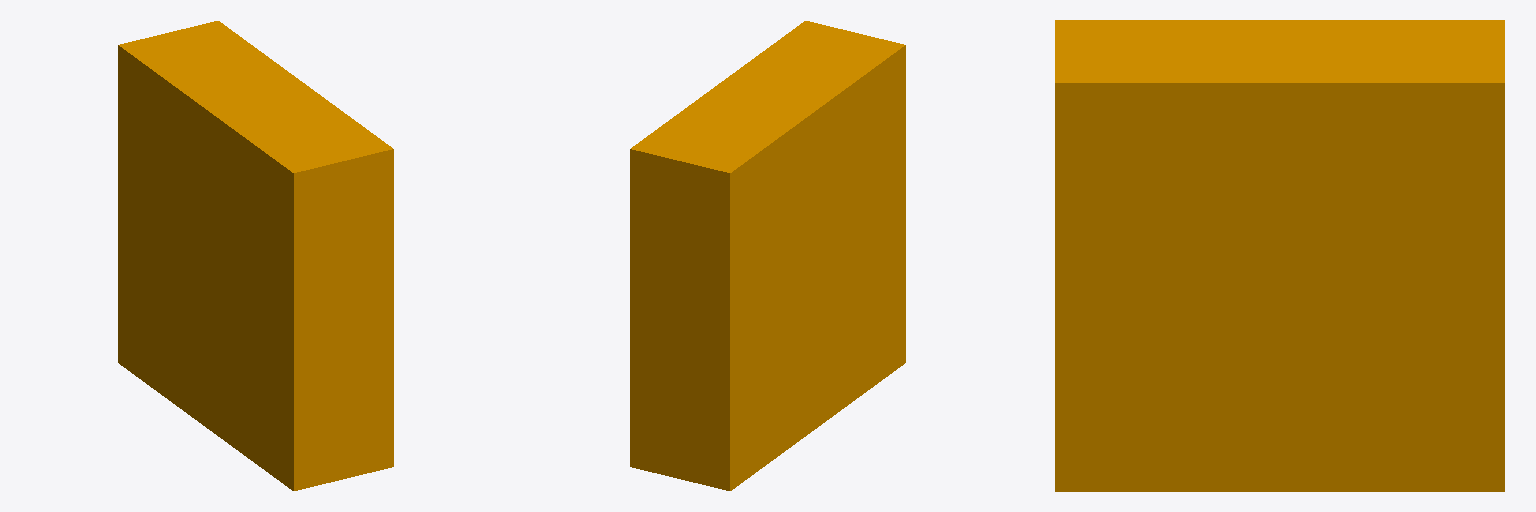
The robot description file, URDF, robot "t":
<?xml version="1.0" ?>
<!-- =================================================================================== -->
<!-- |    This document was autogenerated by xacro from t11_scope.xacro                | -->
<!-- |    EDITING THIS FILE BY HAND IS NOT RECOMMENDED                                 | -->
<!-- =================================================================================== -->
<robot name="t">
  <link name="l">
    <visual>
      <geometry>
        <box size="0.33 1 1"/>
      </geometry>
    </visual>
  </link>
</robot>

--- What the picture shows (computed from the rendered views, not written in the file) ---
3 views of the same robot in one strip: view 1: azimuth 30°, elevation 25°; view 2: azimuth 150°, elevation 25°; view 3: azimuth 270°, elevation 25° (orthographic).
Robot: t — 1 links, 0 joints (none); root link l; default pose: all joints at 0.
Links seen in each view (by area): view 1: l; view 2: l; view 3: l.
Boxes of the visible links, <box> form: l: <box>118,21,393,490</box>; l: <box>630,21,905,490</box>; l: <box>1055,20,1504,491</box>.
Bounding box of the posed robot: 0.33 × 1 × 1 m (x, y, z).
Geometry: primitives only (box / cylinder / sphere), no mesh files.
